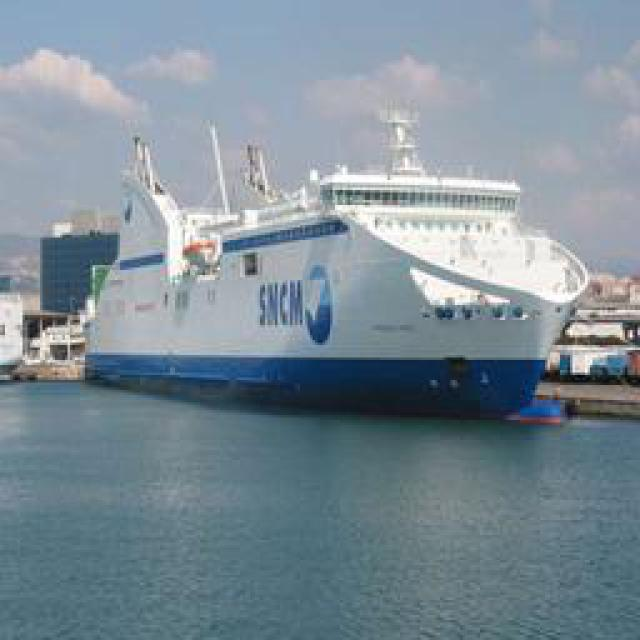Ship: (89, 132, 592, 410)
